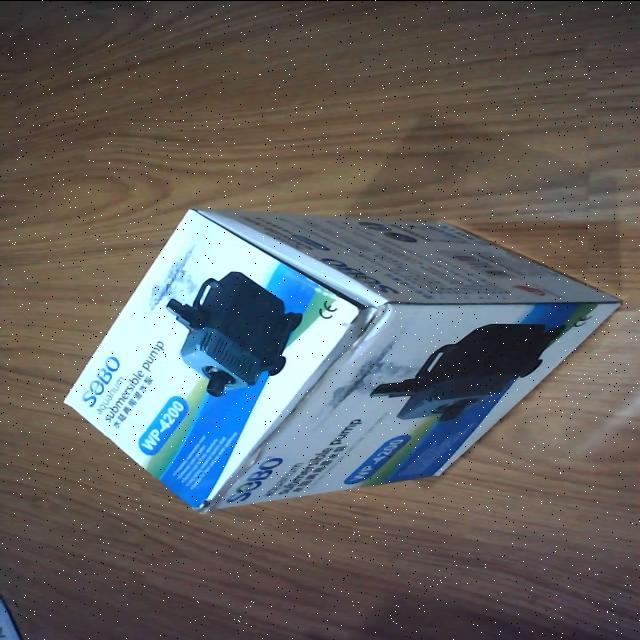SOBO_WP_4200: (50, 204, 628, 516)
